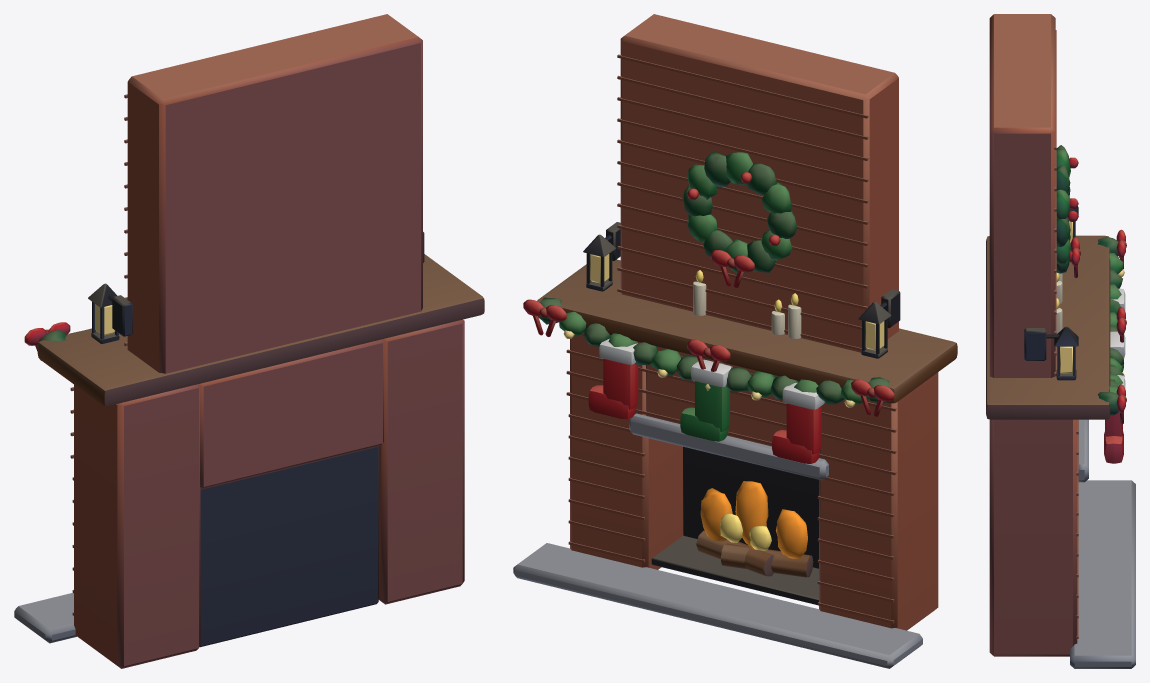
Rendered from Fireplace.fbx.
3 views of the same model, side by side, from view 1: azimuth 30°, elevation 25°; view 2: azimuth 150°, elevation 25°; view 3: azimuth 270°, elevation 25° (orthographic). The views are drawn at different scales.
Visible parts, largest first — view 1: SM_Xmas_Fireplace; view 2: SM_Xmas_Fireplace, SM_Xmas_Fireplace_Glow; view 3: SM_Xmas_Fireplace, SM_Xmas_Fireplace_Glow.
Boxes of the visible parts, box(x1,y1,x2,y2) form: SM_Xmas_Fireplace: box(14, 14, 484, 668); SM_Xmas_Fireplace: box(513, 14, 957, 668); SM_Xmas_Fireplace_Glow: box(563, 254, 884, 558); SM_Xmas_Fireplace: box(986, 14, 1135, 668); SM_Xmas_Fireplace_Glow: box(1056, 221, 1124, 376).
Bounding box in the file's own units: 11.6 × 15.4 × 4.1.
